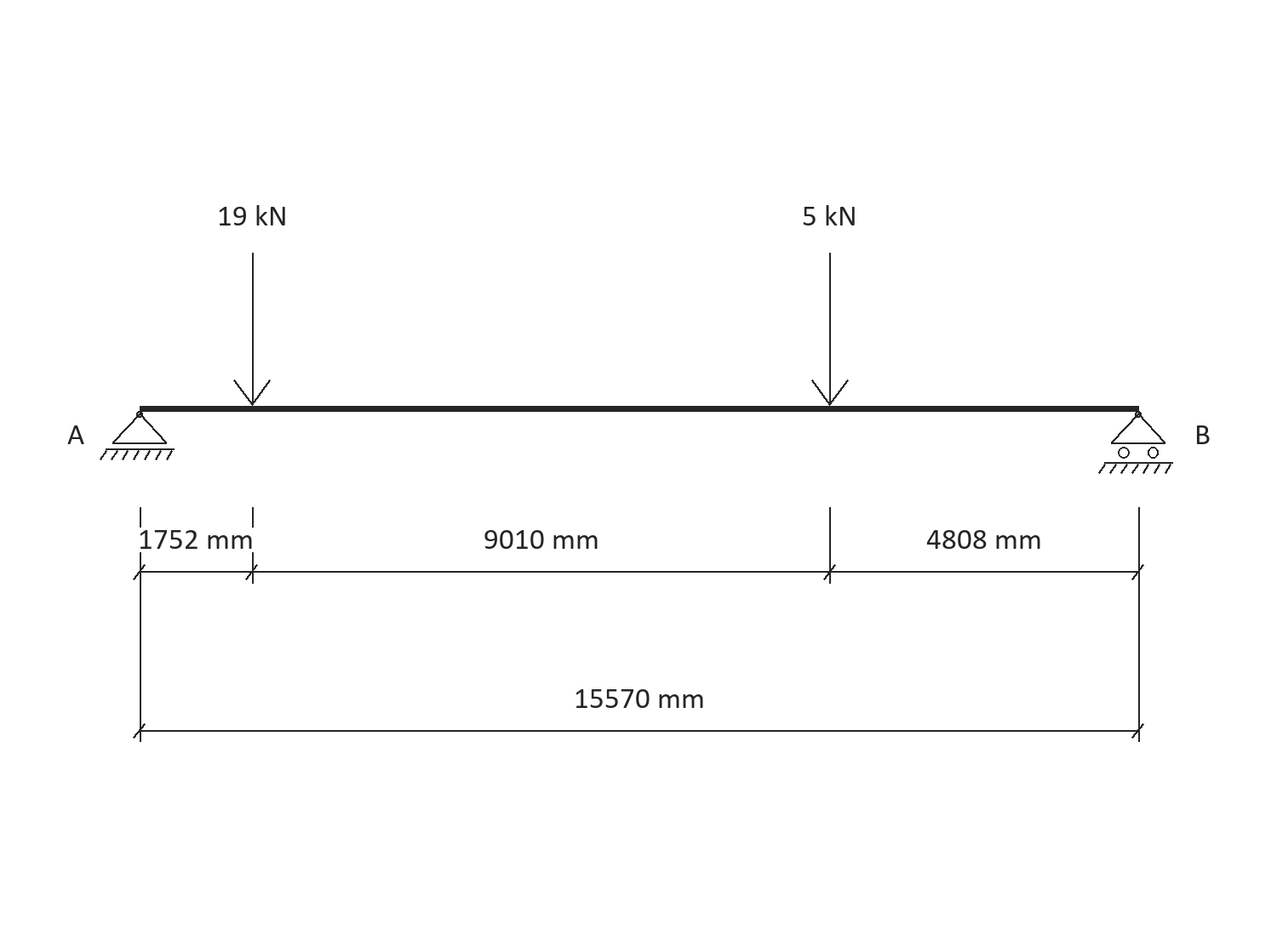pin_support: (100, 411, 175, 460)
point_load: (233, 253, 271, 406), (811, 253, 849, 406)
roller_support: (1098, 411, 1173, 474)
